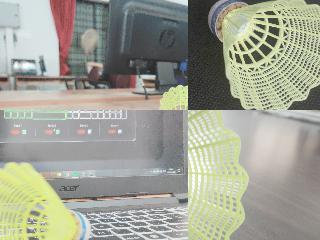shuttlecock: (207, 0, 319, 109), (188, 110, 249, 239), (0, 160, 90, 239), (158, 85, 187, 109)
